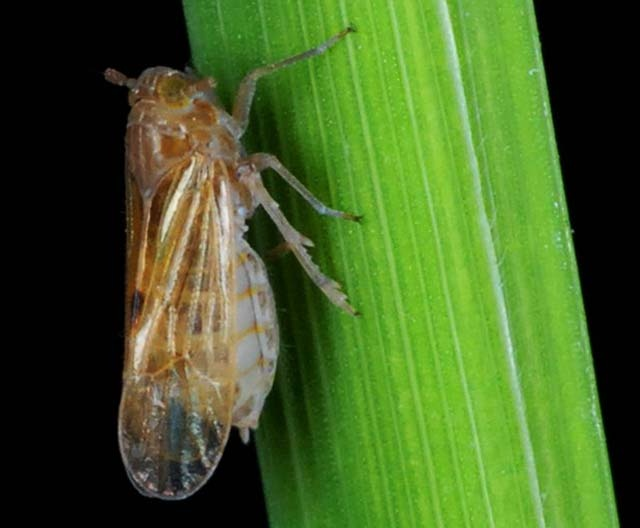Brown_hopper: (99, 32, 343, 509)
